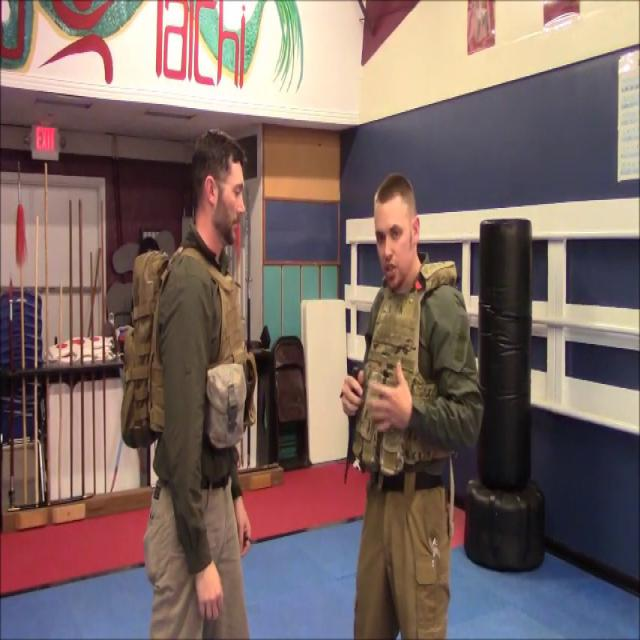knife: (338, 356, 373, 487)
